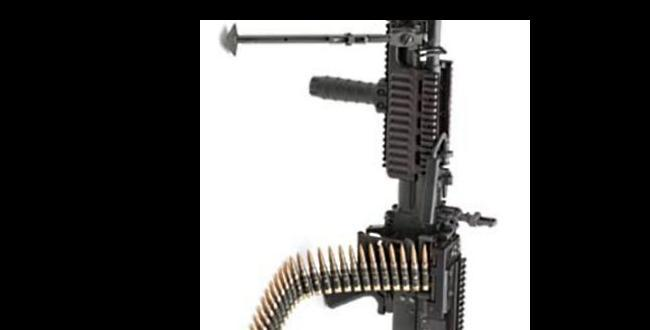larga: (225, 20, 498, 330)
